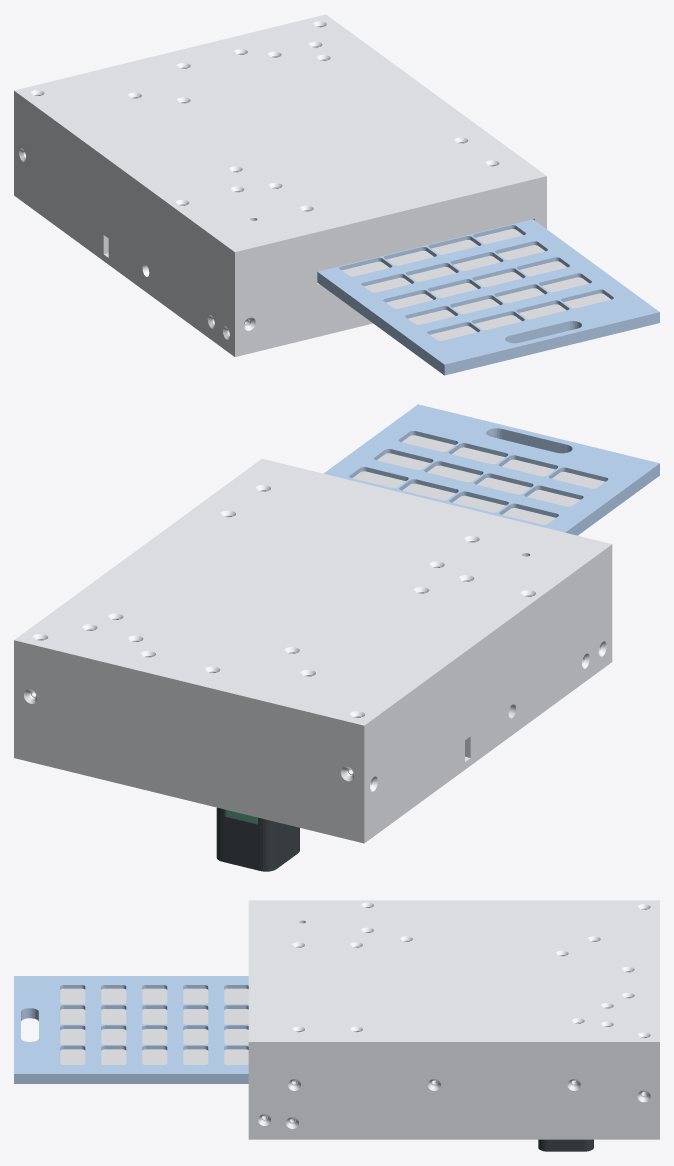
File: artac.glb
3 views of the same model, one above another, from view 1: azimuth 30°, elevation 25°; view 2: azimuth 150°, elevation 25°; view 3: azimuth 270°, elevation 25° (orthographic). The views are drawn at different scales.
Parts seen in each view (by area): view 1: dinding_belakang, wadah_belakang, dinding_kiri, dinding_atas, wadah_foil, dinding_depan; view 2: dinding_belakang, dinding_bawah, dinding_kiri, wadah_belakang, wadah_foil, dinding_depan, kantong_jari; view 3: dinding_belakang, dinding_kanan, wadah_belakang, wadah_foil, dinding_depan, kantong_jari, dinding_atas, dinding_bawah.
Part boxes in pixels (box(x1,y1,x2,y2)): dinding_belakang: box(14, 14, 546, 257); wadah_belakang: box(317, 219, 659, 375); dinding_kiri: box(17, 99, 231, 348); dinding_atas: box(231, 182, 546, 351); wadah_foil: box(342, 229, 610, 340); dinding_depan: box(14, 190, 372, 356); dinding_belakang: box(14, 458, 612, 731); dinding_bawah: box(14, 647, 367, 836); dinding_kiri: box(368, 553, 608, 833); wadah_belakang: box(324, 404, 659, 535); wadah_foil: box(352, 435, 605, 524); dinding_depan: box(14, 656, 612, 843); kantong_jari: box(216, 807, 299, 871); dinding_belakang: box(248, 900, 659, 1047); dinding_kanan: box(254, 1047, 653, 1134); wadah_belakang: box(14, 976, 295, 1083); wadah_foil: box(60, 988, 248, 1064); dinding_depan: box(248, 1134, 659, 1139); kantong_jari: box(538, 1139, 593, 1151); dinding_atas: box(248, 1047, 254, 1134); dinding_bawah: box(654, 1047, 659, 1134).
Size of the model in its own units: 168 by 96 by 324.
